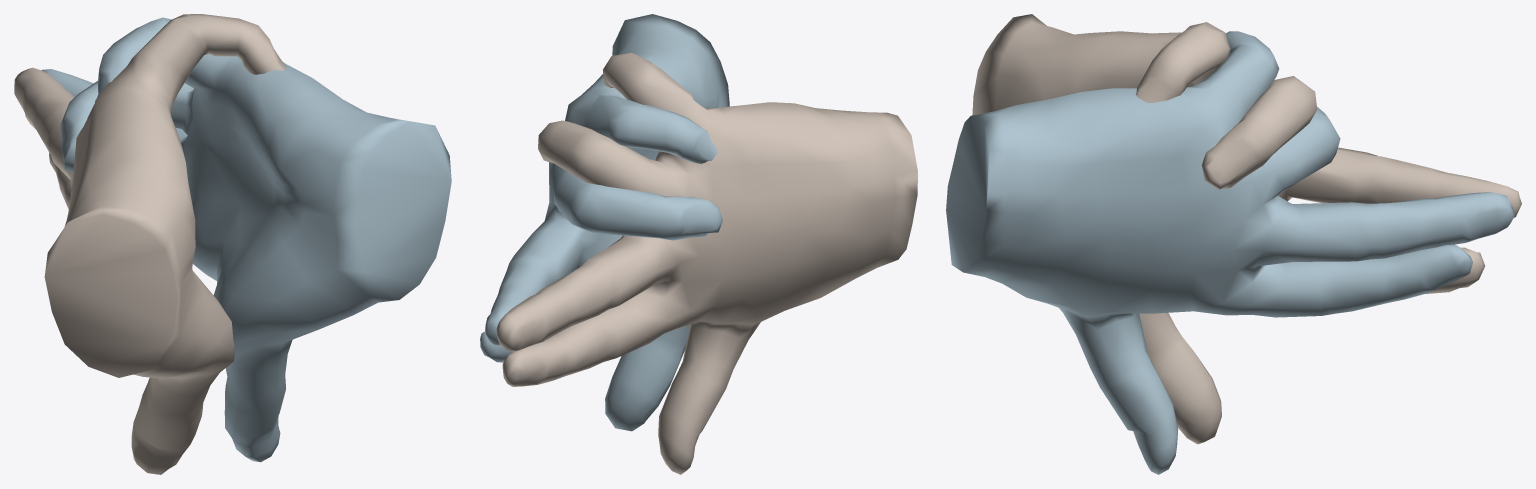
The picture shows the model from 3 angles, left to right: view 1: azimuth 30°, elevation 25°; view 2: azimuth 150°, elevation 25°; view 3: azimuth 270°, elevation 25°; orthographic projection. The views are drawn at different scales.
Size of the model in its own units: 0.1368 by 0.1563 by 0.1881.
